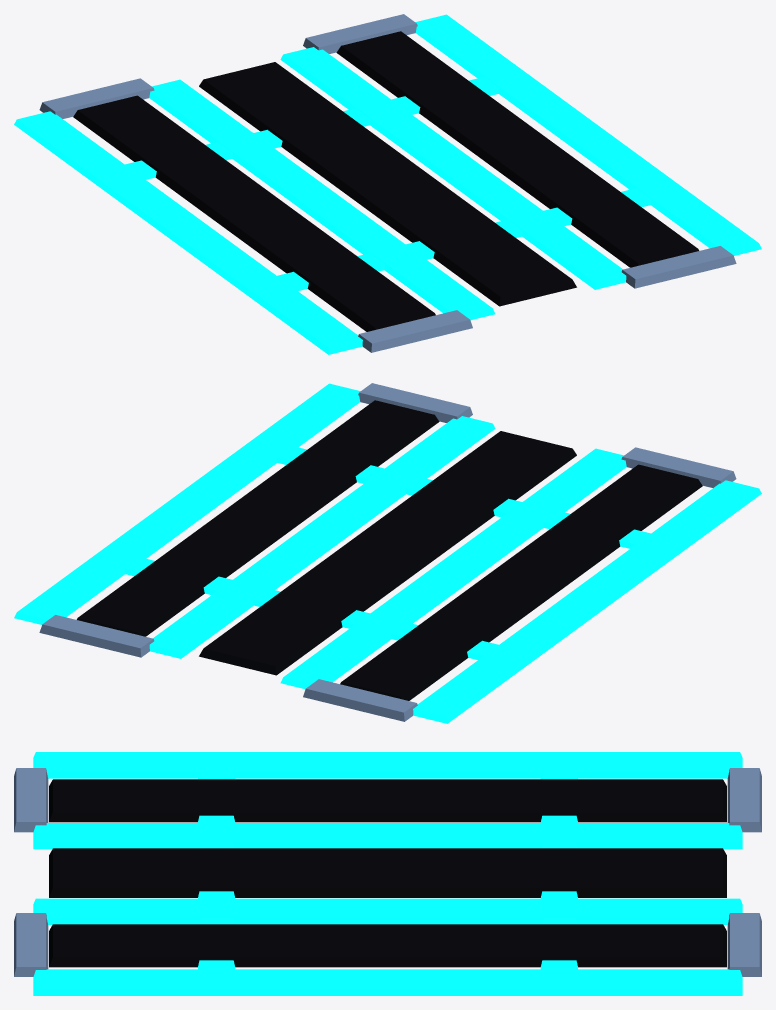
The model's file is SM_ArenaTile_Overlay_03_IceCorridor.glb.
The picture shows the model from 3 angles, top to bottom: view 1: azimuth 30°, elevation 25°; view 2: azimuth 150°, elevation 25°; view 3: azimuth 270°, elevation 25°; orthographic projection. The views are drawn at different scales.
Visible parts, largest first — view 1: Part_MAT_DarkNeutral, Part_EMI_Ice, Part_MAT_LightTrim; view 2: Part_MAT_DarkNeutral, Part_EMI_Ice, Part_MAT_LightTrim; view 3: Part_MAT_DarkNeutral, Part_EMI_Ice, Part_MAT_LightTrim.
Boxes of the visible parts, left/top/right/bottom form: Part_MAT_DarkNeutral: left=73, top=31, right=699, bottom=331; Part_EMI_Ice: left=14, top=14, right=761, bottom=354; Part_MAT_LightTrim: left=39, top=14, right=736, bottom=352; Part_MAT_DarkNeutral: left=76, top=400, right=702, bottom=700; Part_EMI_Ice: left=14, top=383, right=761, bottom=723; Part_MAT_LightTrim: left=39, top=383, right=736, bottom=721; Part_MAT_DarkNeutral: left=49, top=779, right=726, bottom=967; Part_EMI_Ice: left=33, top=752, right=742, bottom=995; Part_MAT_LightTrim: left=14, top=768, right=761, bottom=976.
Size of the model in its own units: 7.24 by 0.13 by 9.6.
Materials: 3 (3 with a texture image).
